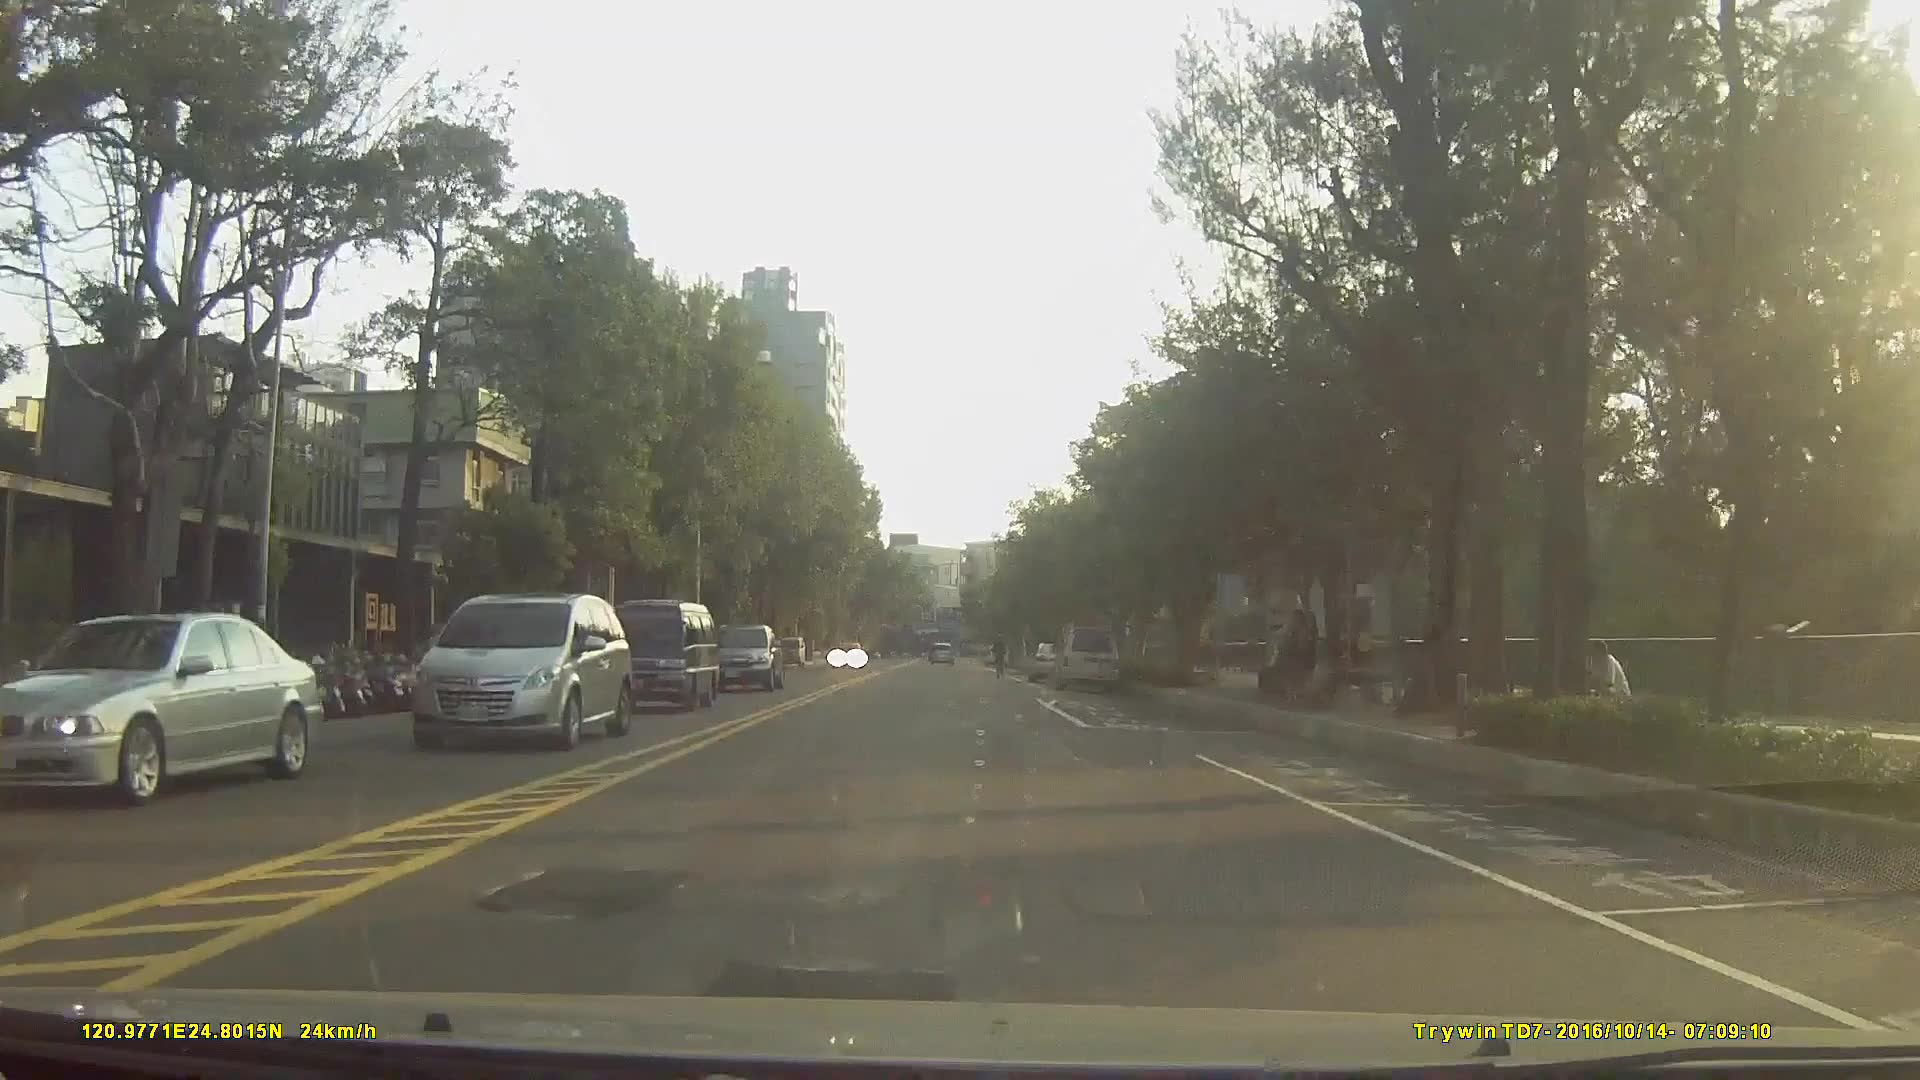pedestrian: (1254, 619, 1292, 702)
rider: (990, 630, 1010, 677)
vehicle: (0, 609, 322, 803), (407, 591, 630, 752), (602, 596, 721, 706), (703, 620, 784, 688), (1048, 623, 1120, 690), (1027, 637, 1073, 680), (773, 632, 807, 666), (828, 638, 864, 667), (925, 639, 956, 664)
